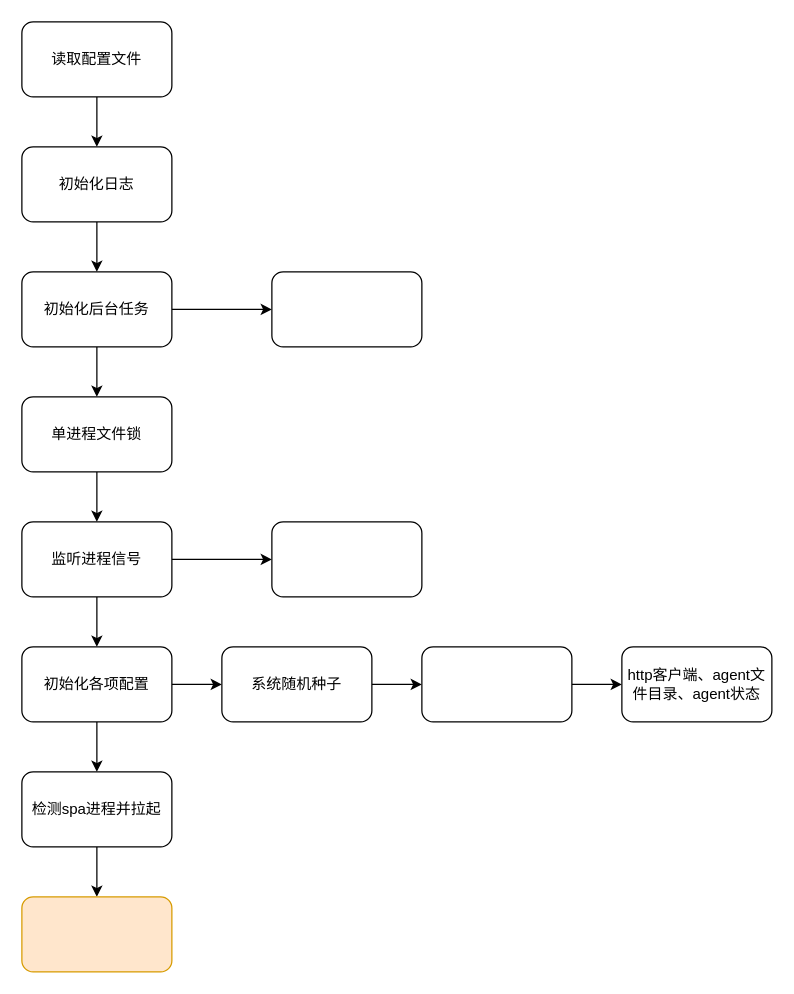
The diagram is 794 pixels wide and 994 high, and some of its shapes have lost their labels. The centre of each missing label's shape, as x and y in pixels:
"Kill、Interrupt 等" goes at [346,559].
"启用心跳检测" goes at [96,934].
"定时解析刷新域名，加速访问" goes at [346,309].
"设置agentid" goes at [496,684].
